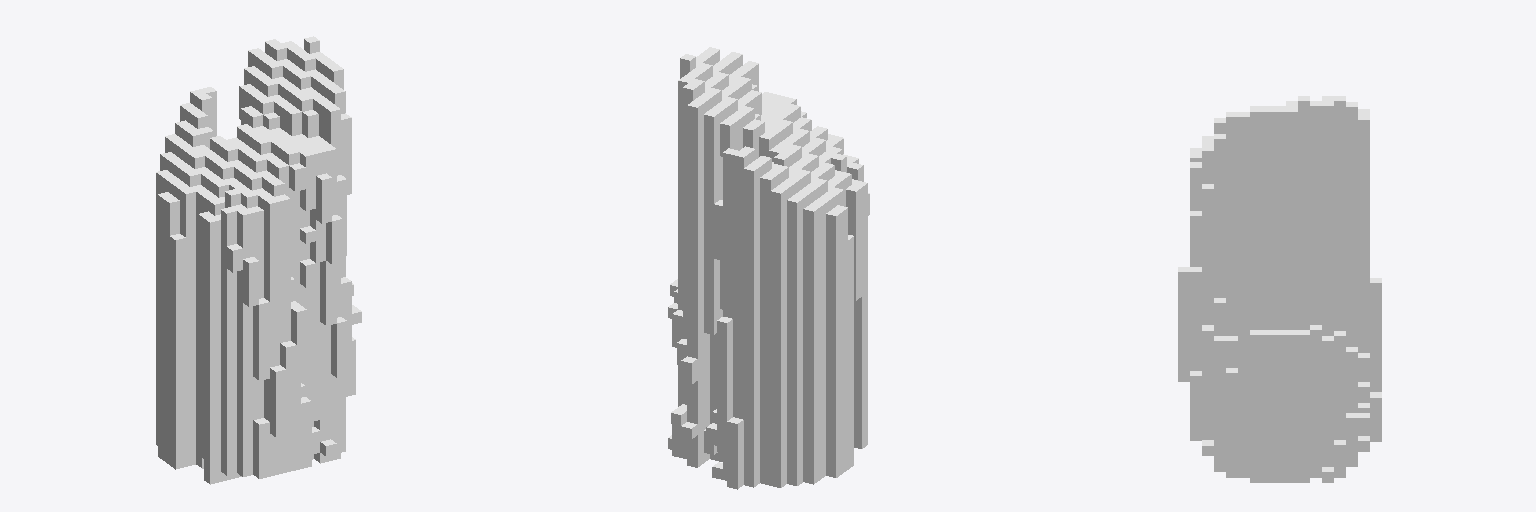
Rendered from pillar2.obj.
The picture shows the model from 3 angles: view 1: azimuth 30°, elevation 25°; view 2: azimuth 150°, elevation 25°; view 3: azimuth 270°, elevation 25°; orthographic projection.
Visible parts, largest first — view 1: object 1; view 2: object 1; view 3: object 1.
Boxes of the visible parts, x1=… form: object 1: x1=156, y1=36, x2=361, y2=484; object 1: x1=668, y1=47, x2=869, y2=489; object 1: x1=1178, y1=96, x2=1381, y2=482.
Bounding box in the file's own units: 1.6 × 3.5 × 1.7.